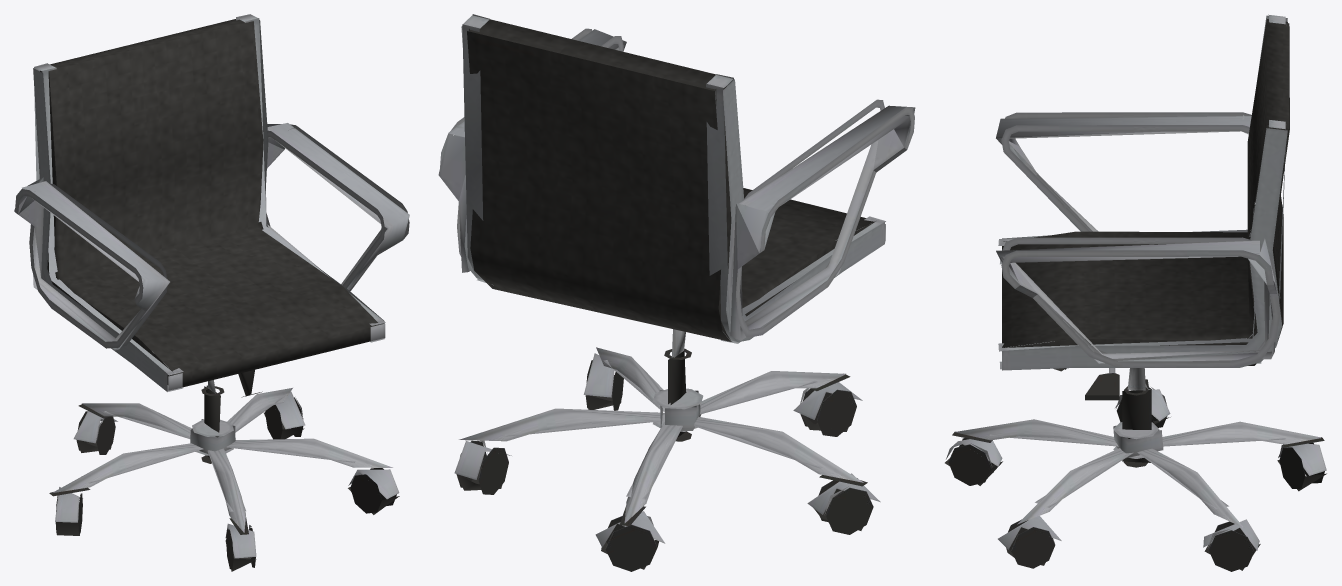
Rendered from chair-27.glb.
3 renders of one model, left to right at view 1: azimuth 30°, elevation 25°; view 2: azimuth 150°, elevation 25°; view 3: azimuth 270°, elevation 25°, orthographic. The views are drawn at different scales.
Parts seen in each view (by area): view 1: OfficeChair_Modern; view 2: OfficeChair_Modern; view 3: OfficeChair_Modern.
Boxes of the visible parts, box(x1,y1,x2,y2) form: OfficeChair_Modern: box(14, 14, 409, 571); OfficeChair_Modern: box(438, 14, 915, 571); OfficeChair_Modern: box(945, 14, 1326, 571).
Size of the model in its own units: 6.49 by 8.57 by 6.82.
1 material, 1 textured.
